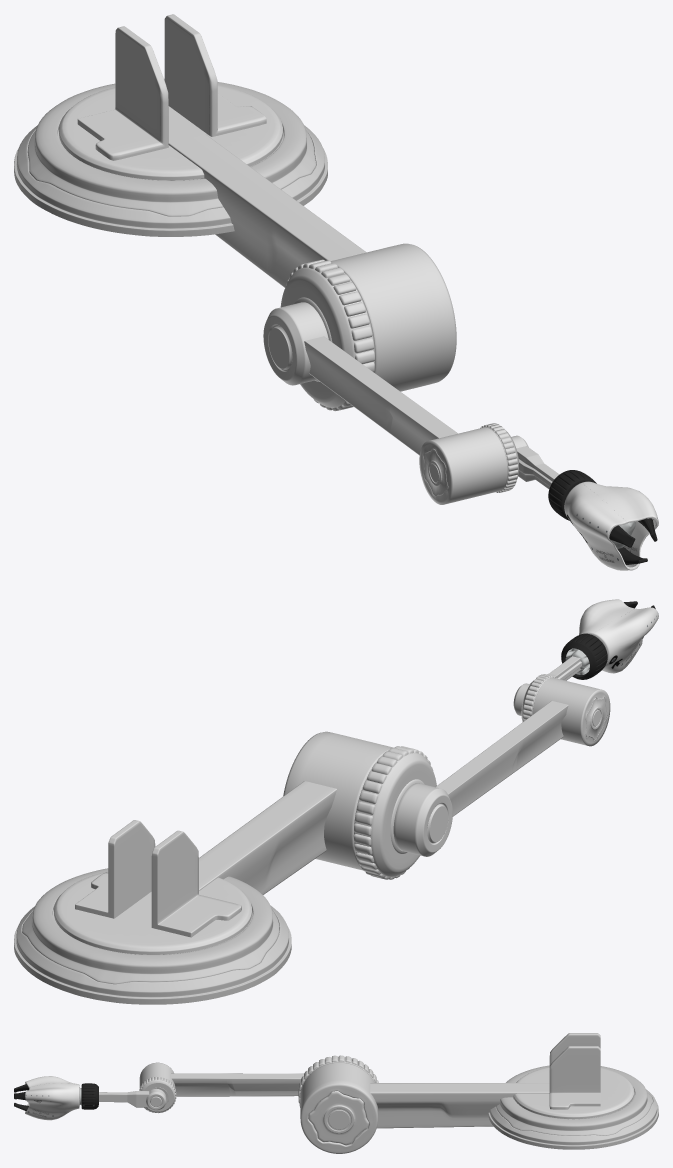
Rendered from arm_8.fbx.
3 views of the same model, one above another, from view 1: azimuth 30°, elevation 25°; view 2: azimuth 150°, elevation 25°; view 3: azimuth 270°, elevation 25° (orthographic). The views are drawn at different scales.
Parts seen in each view (by area): view 1: x_axis_1, y_axis, base, x_axis_2, hand_part; view 2: x_axis_1, y_axis, base, x_axis_2, hand_part; view 3: x_axis_1, y_axis, base, x_axis_2, hand_part.
Part boxes in pixels (x1,y1,x2,y2): x_axis_1: (168,134,456,411); y_axis: (59,14,282,180); base: (14,78,327,236); x_axis_2: (263,302,519,504); hand_part: (511,435,658,570); x_axis_1: (199,731,436,894); y_axis: (54,820,251,954); base: (14,868,291,1004); x_axis_2: (393,674,610,856); hand_part: (513,599,658,715); x_axis_1: (298,1055,549,1153); y_axis: (513,1033,634,1119); base: (488,1065,658,1149); x_axis_2: (139,1062,303,1113); hand_part: (25,1076,166,1120).
Bounding box in the file's own units: 562 × 385 × 2121.
